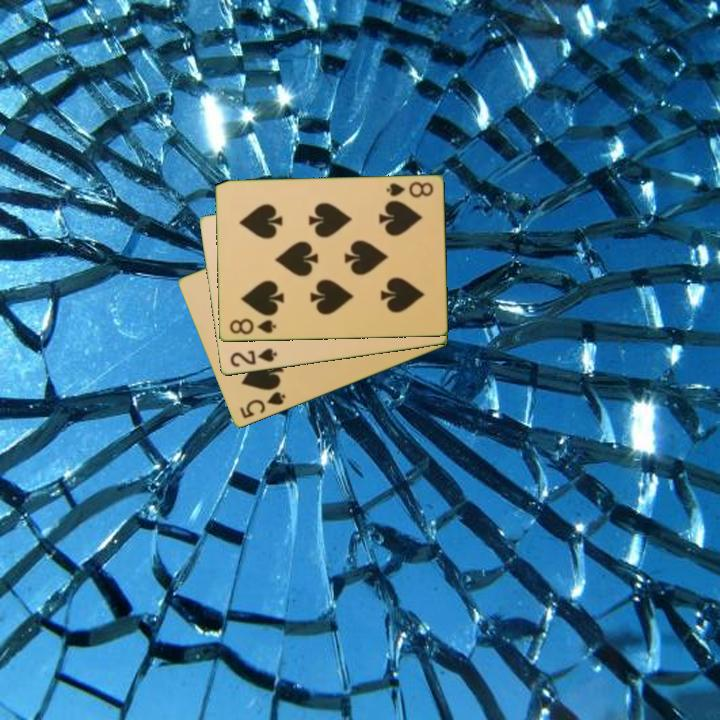2s: (226, 345, 280, 370)
5s: (236, 388, 288, 422)
8s: (226, 315, 279, 338), (383, 178, 436, 201)
